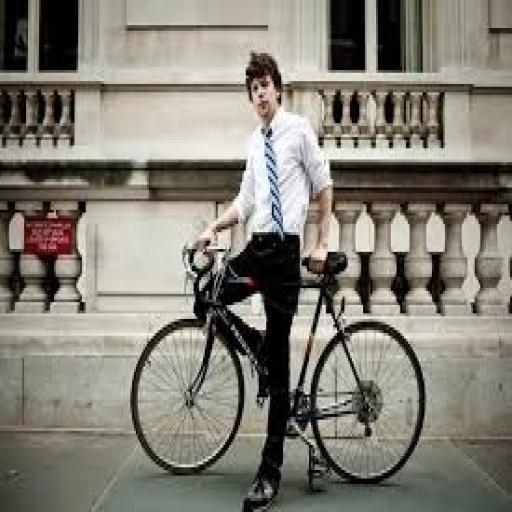cycling: (190, 48, 337, 509)
